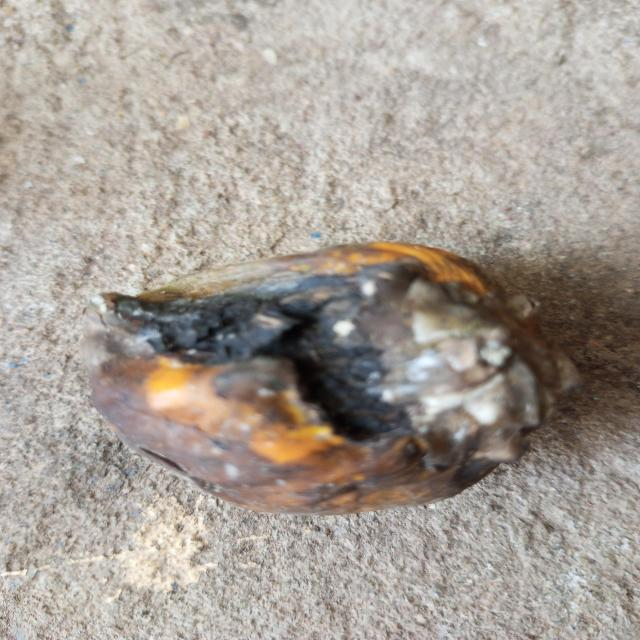damaged: (82, 243, 582, 514)
